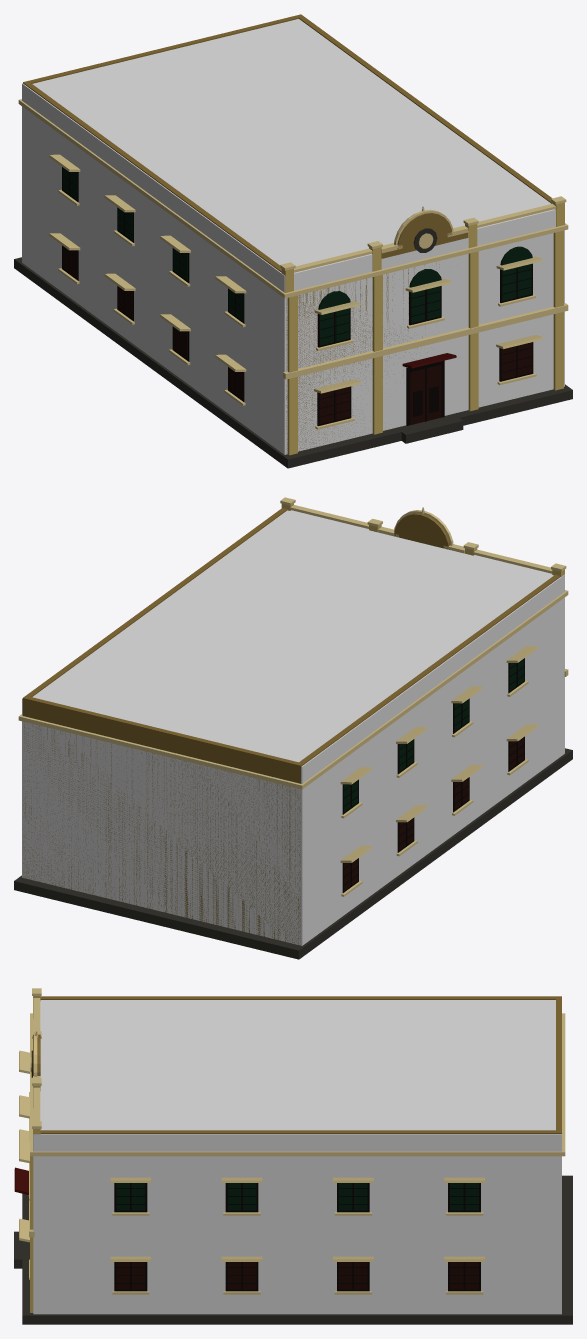
The model's file is CHN_003_courtyard_old.glb.
The picture shows the model from 3 angles, top to bottom: view 1: azimuth 30°, elevation 25°; view 2: azimuth 150°, elevation 25°; view 3: azimuth 270°, elevation 25°; orthographic projection.
Visible parts, largest first — view 1: COL_Main, LOD0; view 2: COL_Main, LOD0; view 3: COL_Main, LOD0.
Boxes of the visible parts, box(x1,y1,x2,y2) form: COL_Main: box(22, 19, 564, 454); LOD0: box(14, 14, 572, 468); COL_Main: box(22, 510, 564, 945); LOD0: box(14, 497, 572, 959); COL_Main: box(33, 1000, 561, 1314); LOD0: box(14, 988, 572, 1324).
Size of what is drawn, in the model's own units: 12.65 by 8.86 by 20.1.
